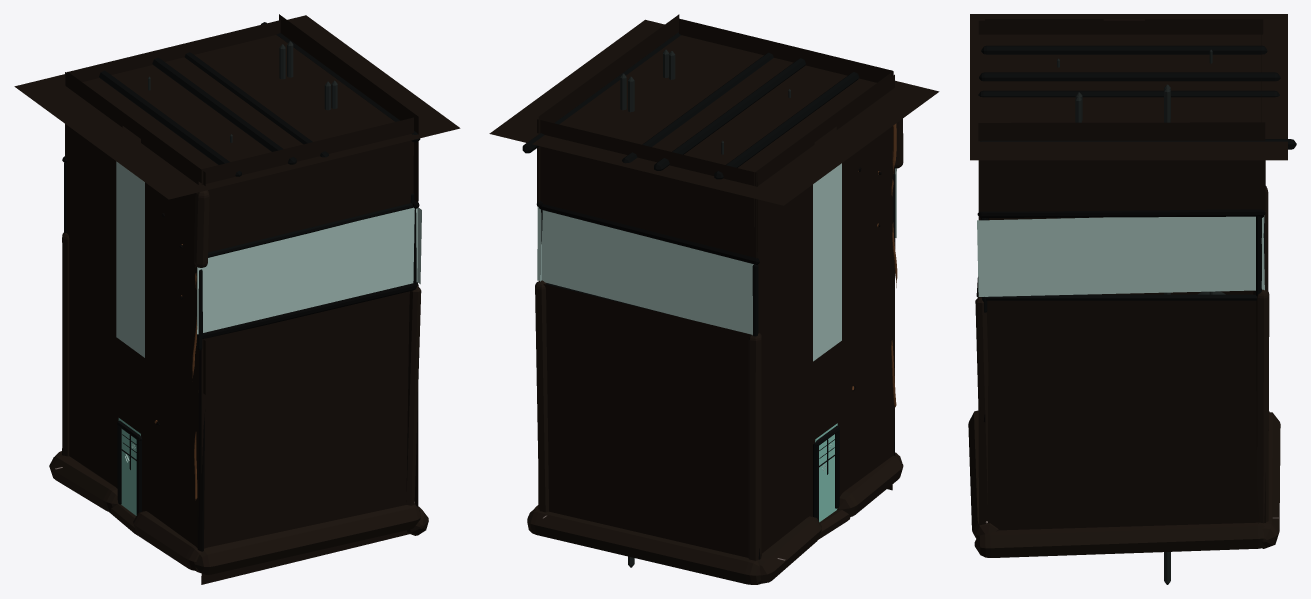
The model's file is Working-Coalmine_EA.fbx.
3 renders of one model, left to right at view 1: azimuth 30°, elevation 25°; view 2: azimuth 150°, elevation 25°; view 3: azimuth 270°, elevation 25°, orthographic. The views are drawn at different scales.
Parts seen in each view (by area): view 1: EntryArea-haus, EA-lamps; view 2: EntryArea-haus, EA-lamps; view 3: EntryArea-haus, EA-lamps.
Boxes of the visible parts, <box> form: EntryArea-haus: <box>14,14,460,584</box>; EA-lamps: <box>148,41,330,425</box>; EntryArea-haus: <box>489,14,939,584</box>; EA-lamps: <box>620,51,855,567</box>; EntryArea-haus: <box>968,14,1296,557</box>; EA-lamps: <box>1057,49,1225,584</box>.
Bounding box in the file's own units: 4.2 × 6.71 × 3.98.
